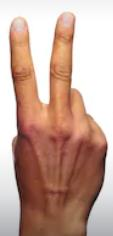front: (7, 12, 108, 214)
